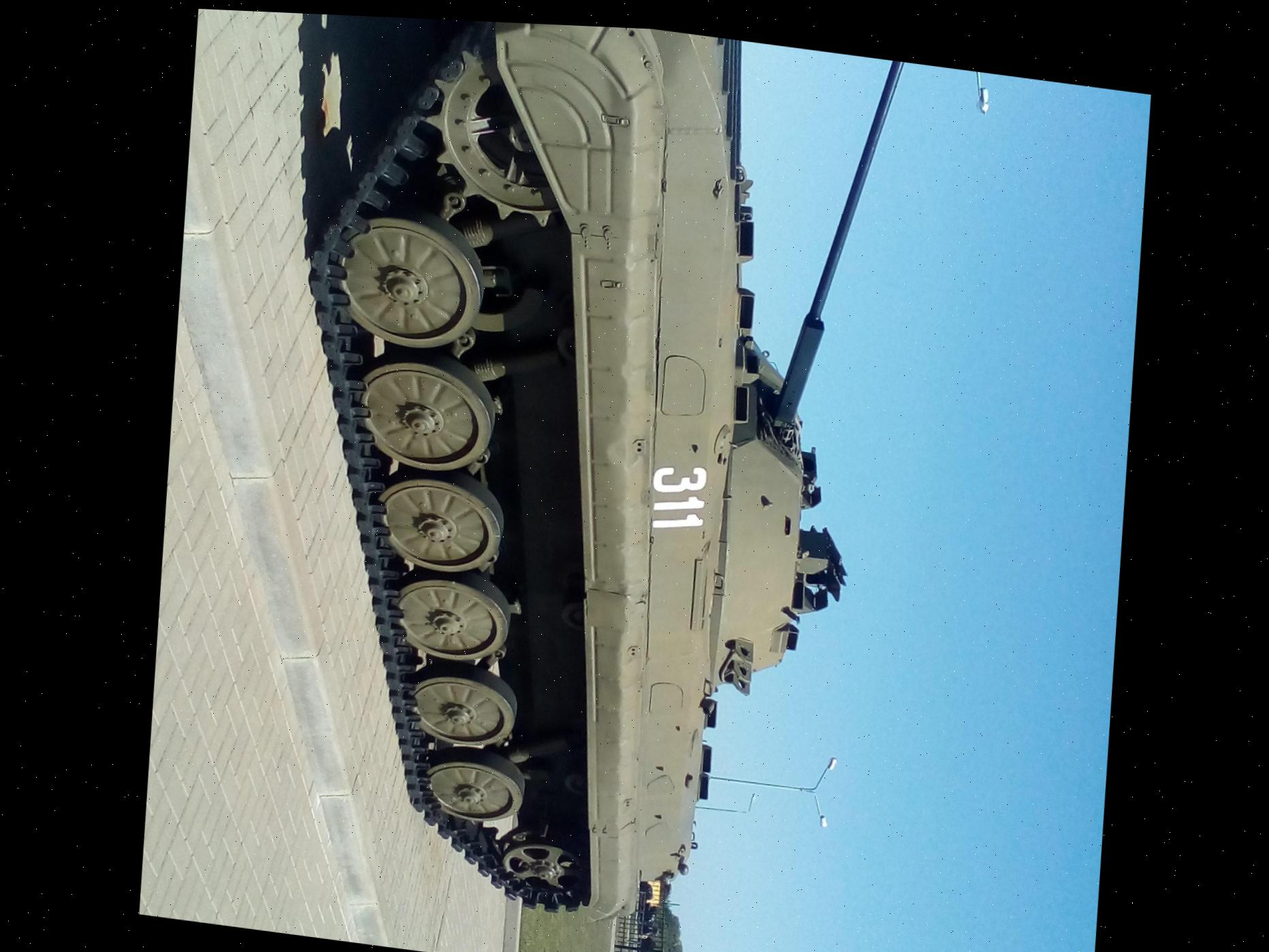tank: (246, 11, 946, 952)
